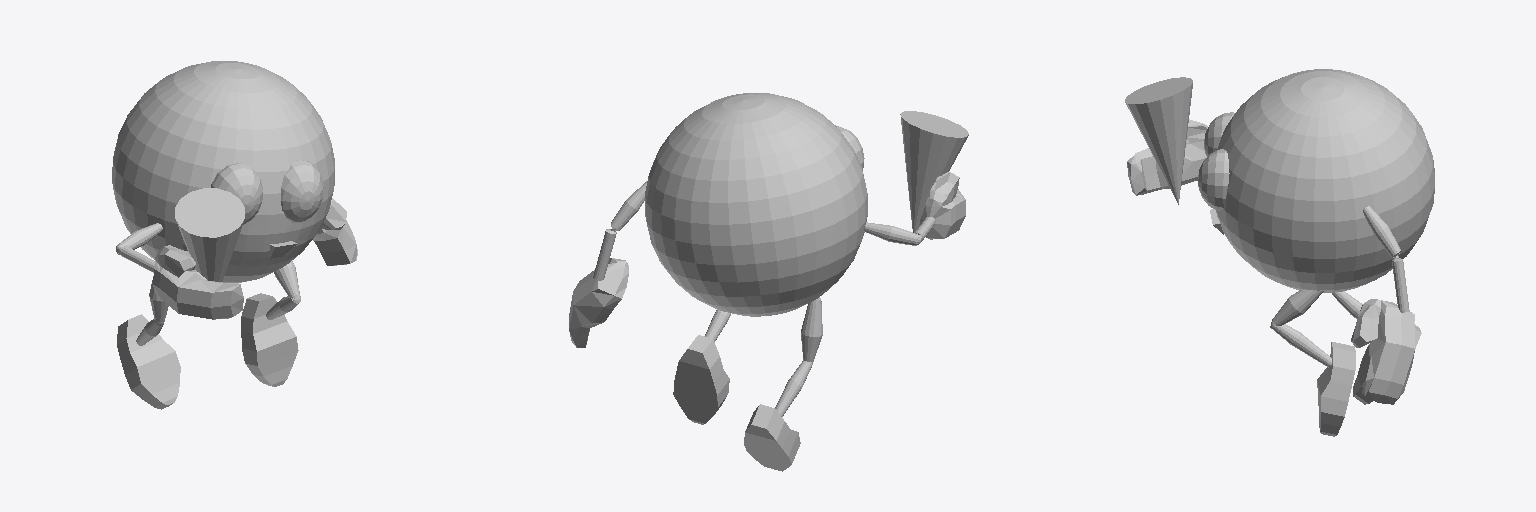
The model's file is Rusko_ani_03_000034.obj.
3 views of the same model, side by side, from view 1: azimuth 30°, elevation 25°; view 2: azimuth 150°, elevation 25°; view 3: azimuth 270°, elevation 25° (orthographic).
Visible parts, largest first — view 1: Rusko_Sphere; view 2: Rusko_Sphere; view 3: Rusko_Sphere.
Part boxes in pixels (x1,y1,x2,y2): Rusko_Sphere: (112, 61, 357, 409); Rusko_Sphere: (569, 93, 968, 471); Rusko_Sphere: (1125, 69, 1434, 436).
Size of the model in its own units: 6.04 by 6.75 by 5.55.